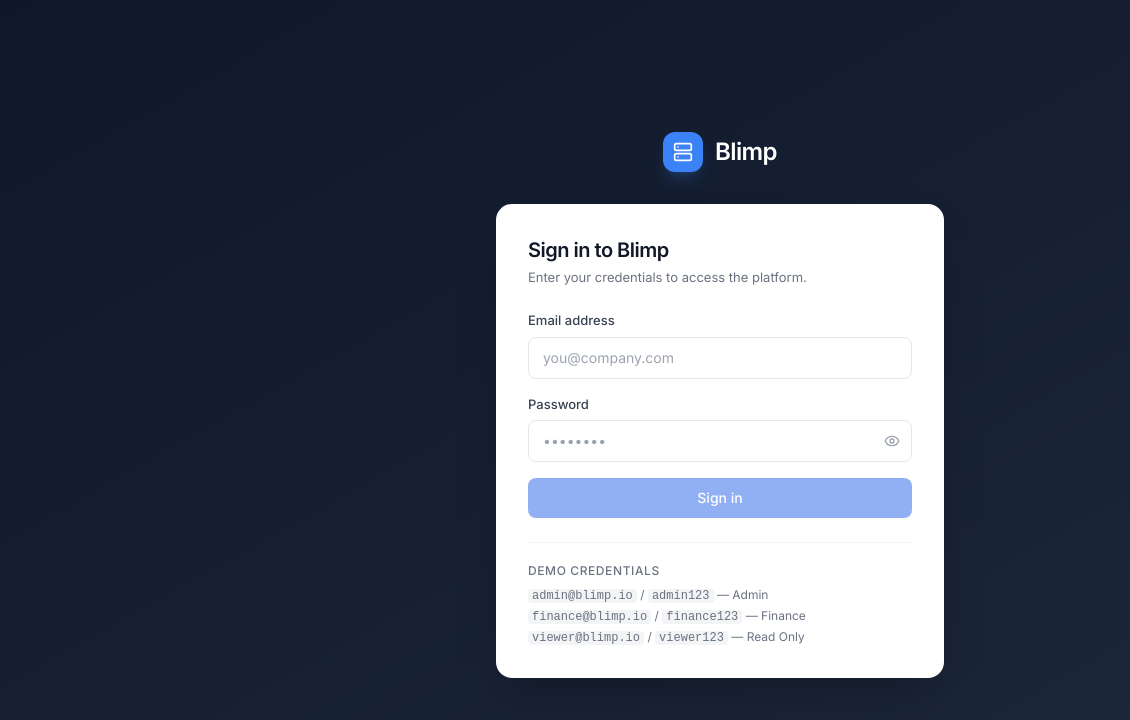
Test: Login page › sign in button › is enabled when both email and password have values
Type "admin@blimp.io" into the field with id "email".
click(720, 358); type("admin@blimp.io")  # box [528,337,912,379]
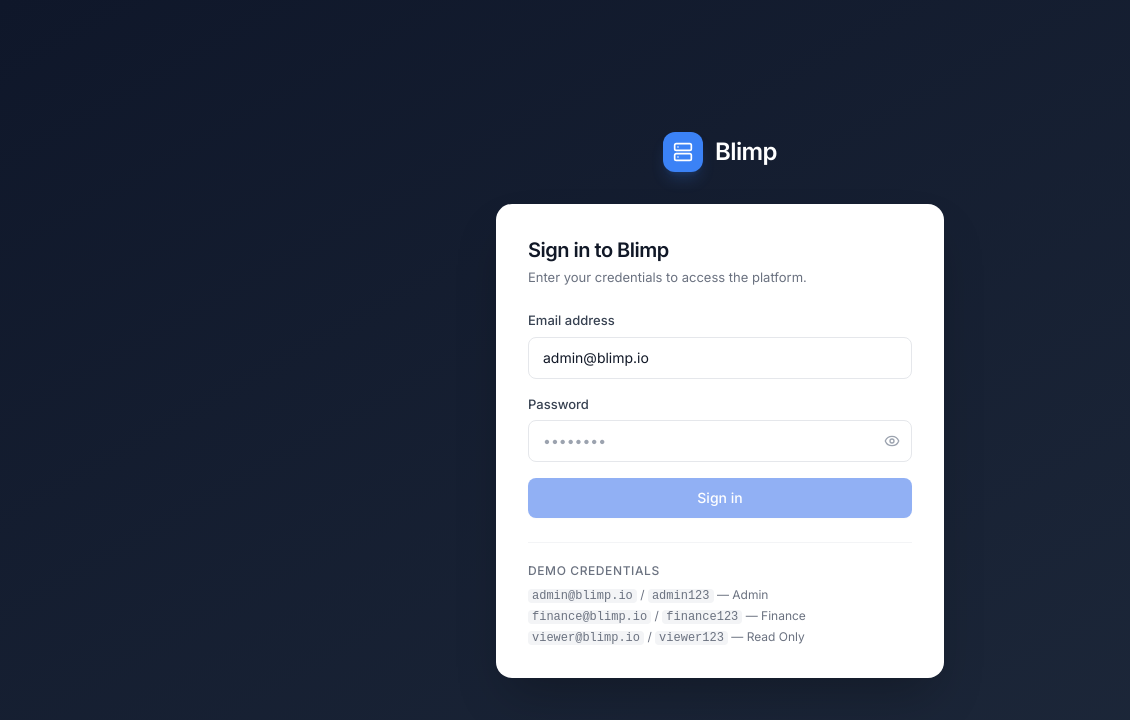
Type "admin123" into the password field labelled "Password".
click(720, 441); type("admin123")  # box [528,420,912,462]
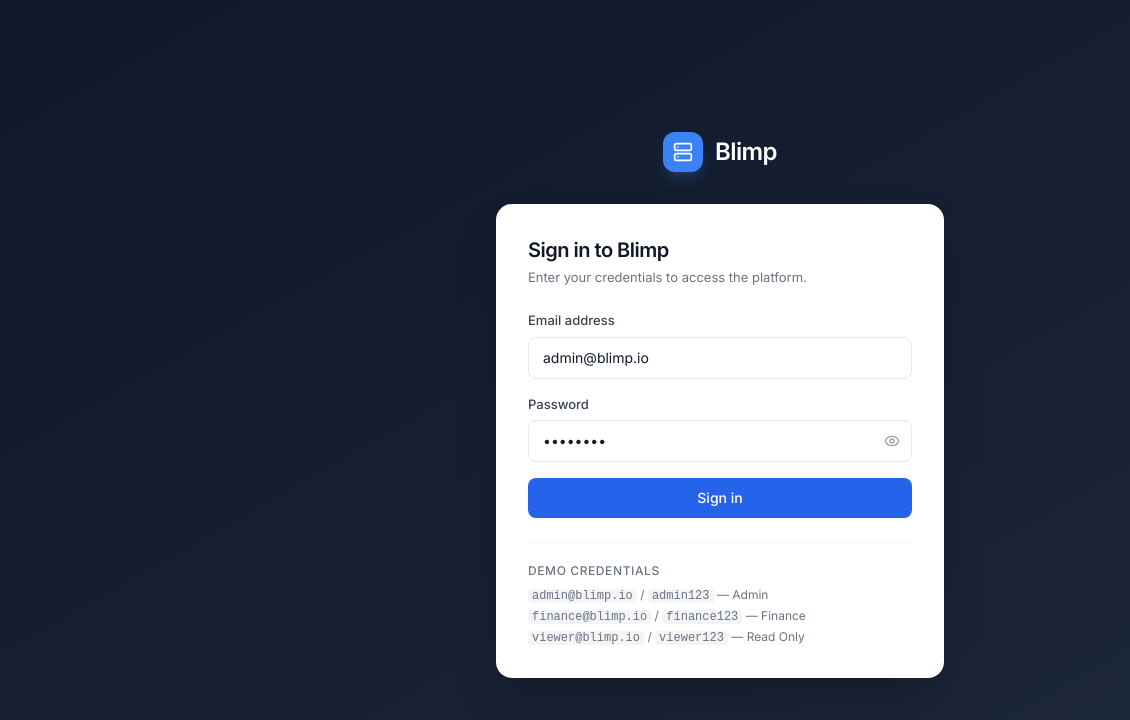
Expected: the button "Sign in" is enabled, [528,478,912,518]
